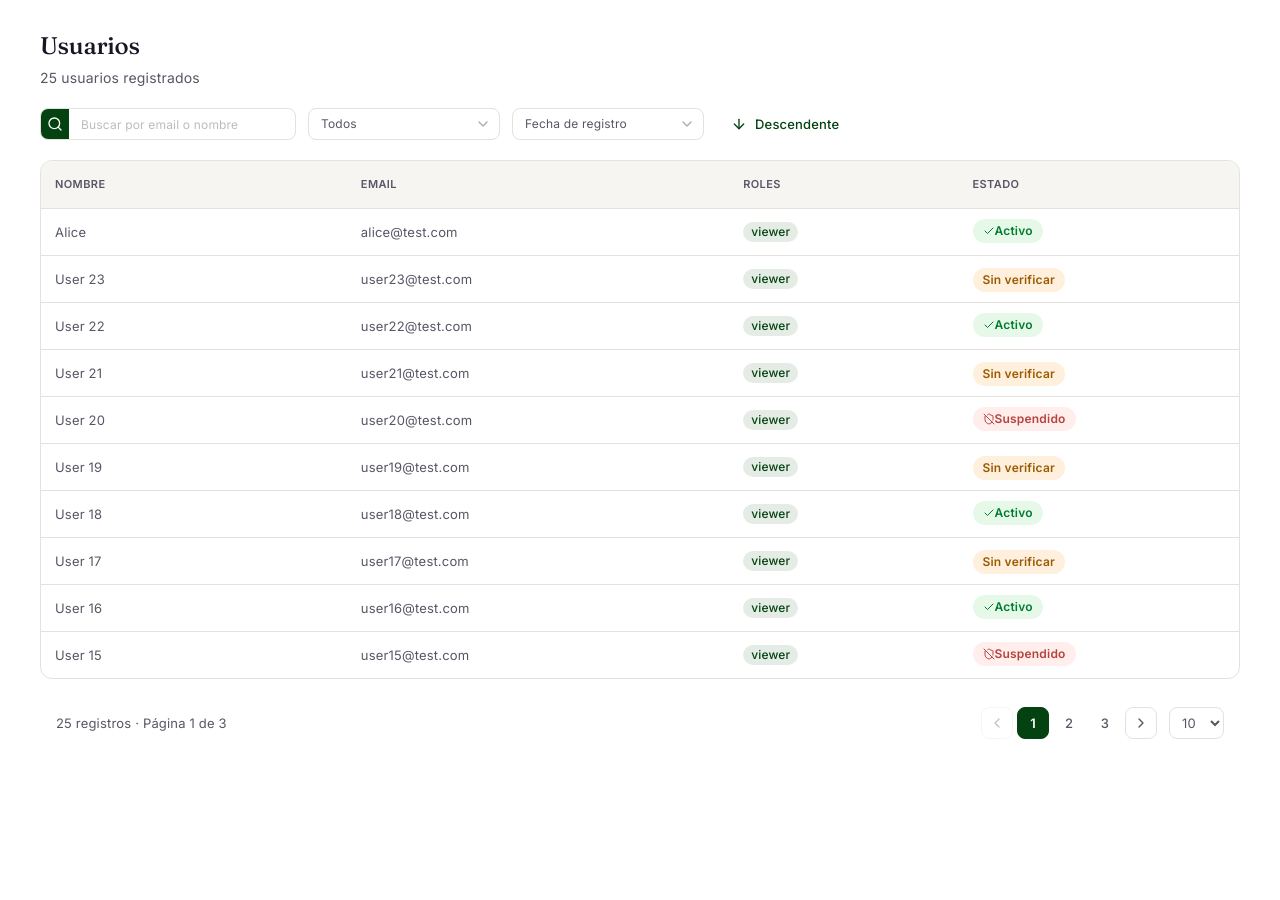
Test: UsersPage — gating de /admin/roles por privilegio y drawer abierto › no pide /admin/roles ni al abrir el drawer si falta roles.read
The width and height of the screenshot is (1280, 900).
Click the text "Alice" at (194, 232), box [41,208,347,255]
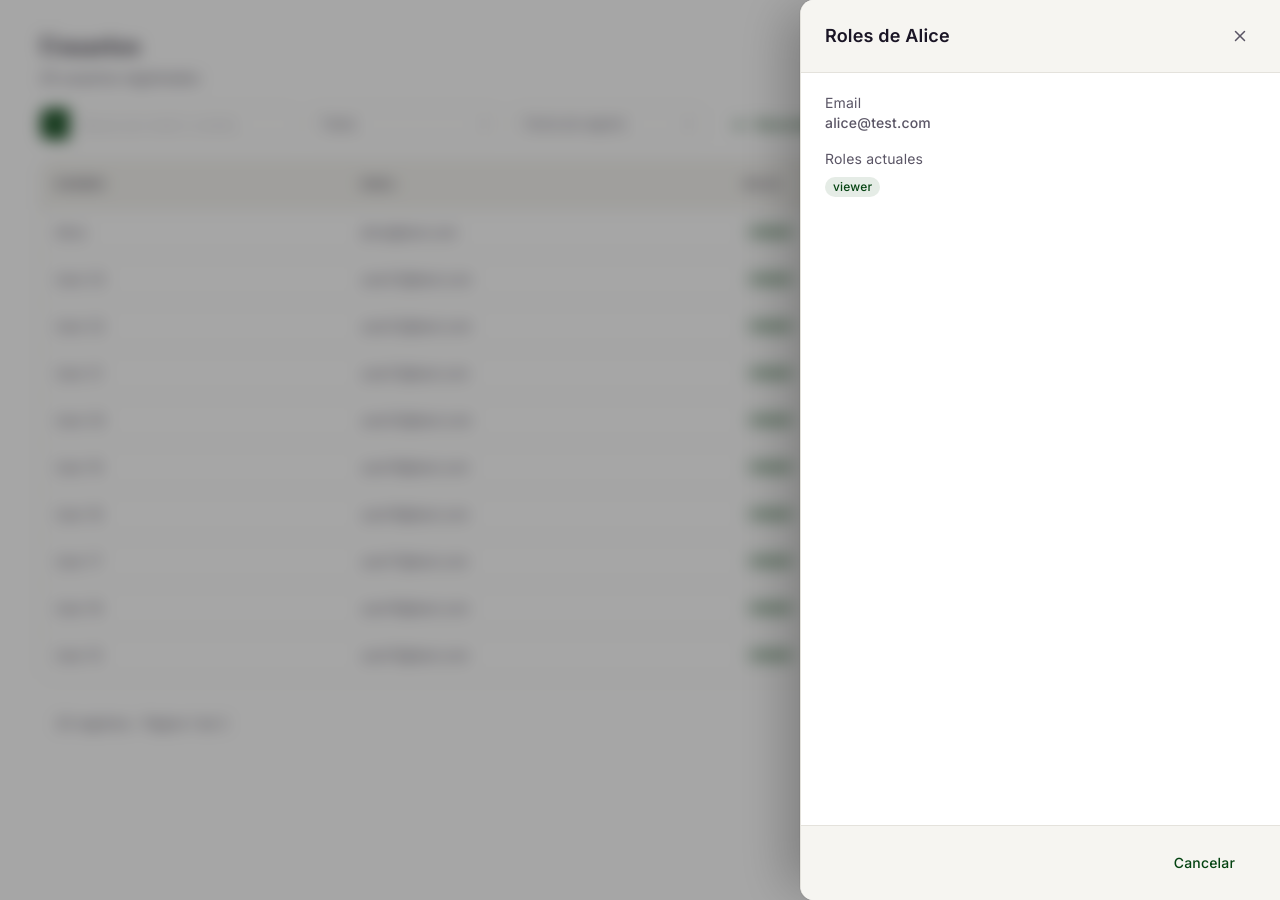
Expected: the dialog is shown, [800,0,1279,899]
